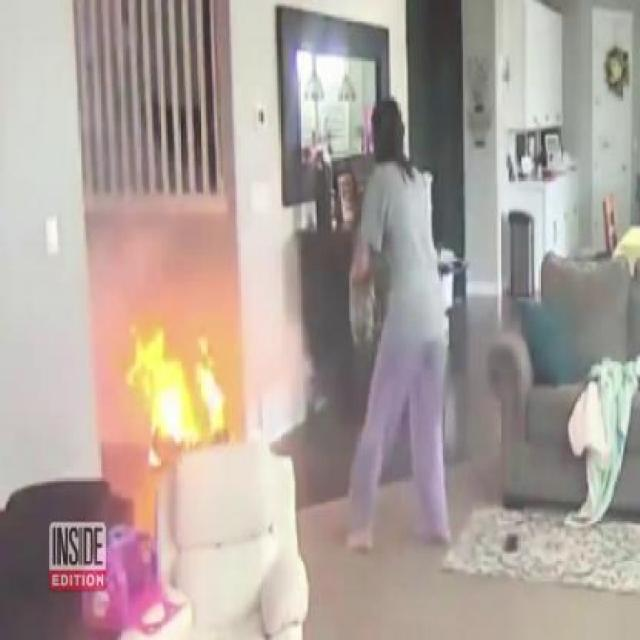fire: (128, 321, 236, 470)
